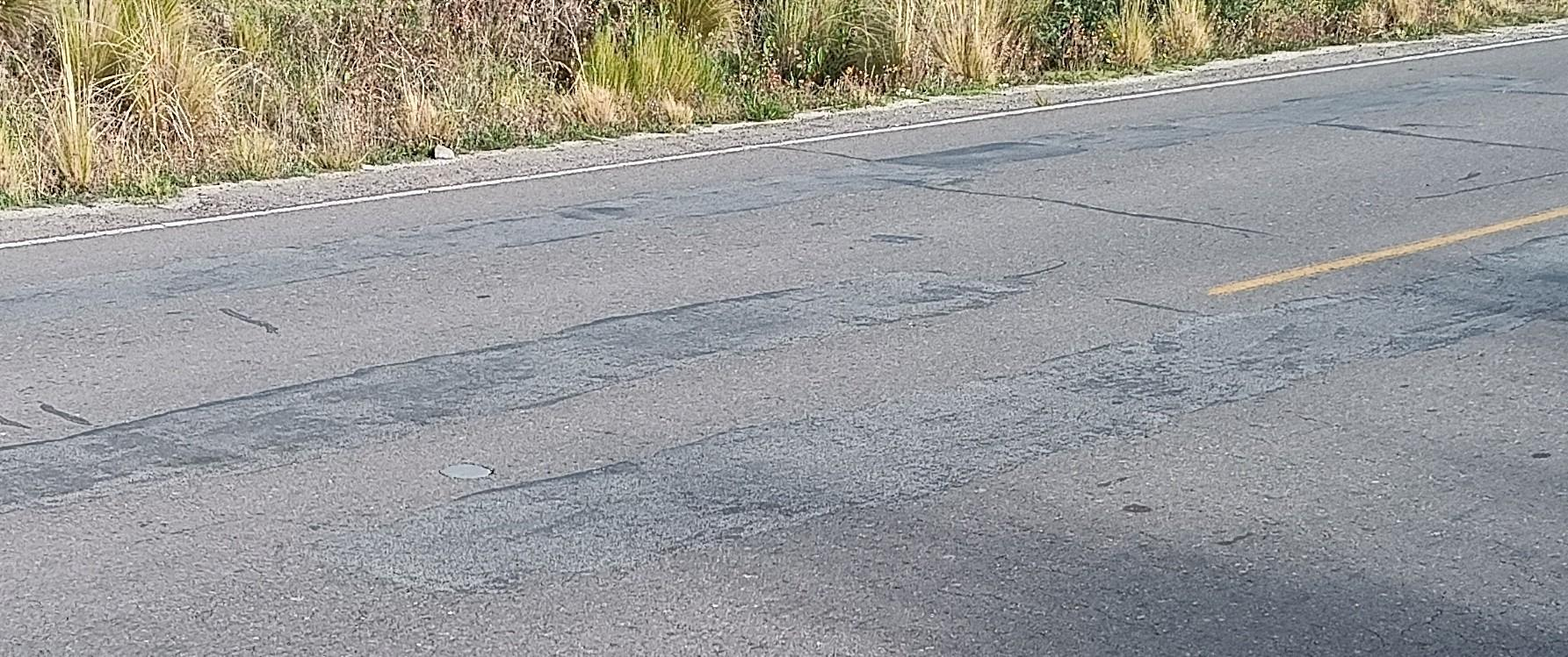GRIETA: (911, 183, 1269, 233), (1314, 122, 1567, 152), (1416, 171, 1567, 197), (1109, 297, 1202, 313), (219, 308, 278, 332), (40, 403, 92, 425)
PARCHE: (338, 242, 1567, 589), (0, 271, 1033, 506), (0, 171, 892, 318), (1062, 77, 1505, 149), (876, 142, 1080, 169)
